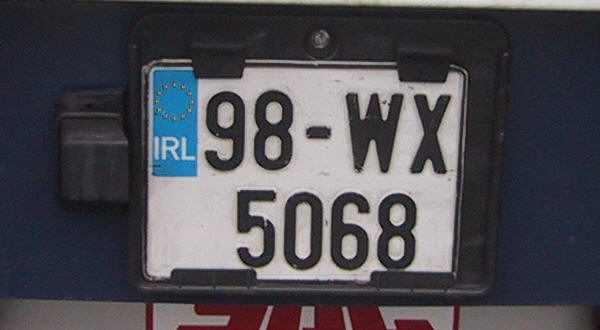license_plate: (140, 60, 469, 282)
